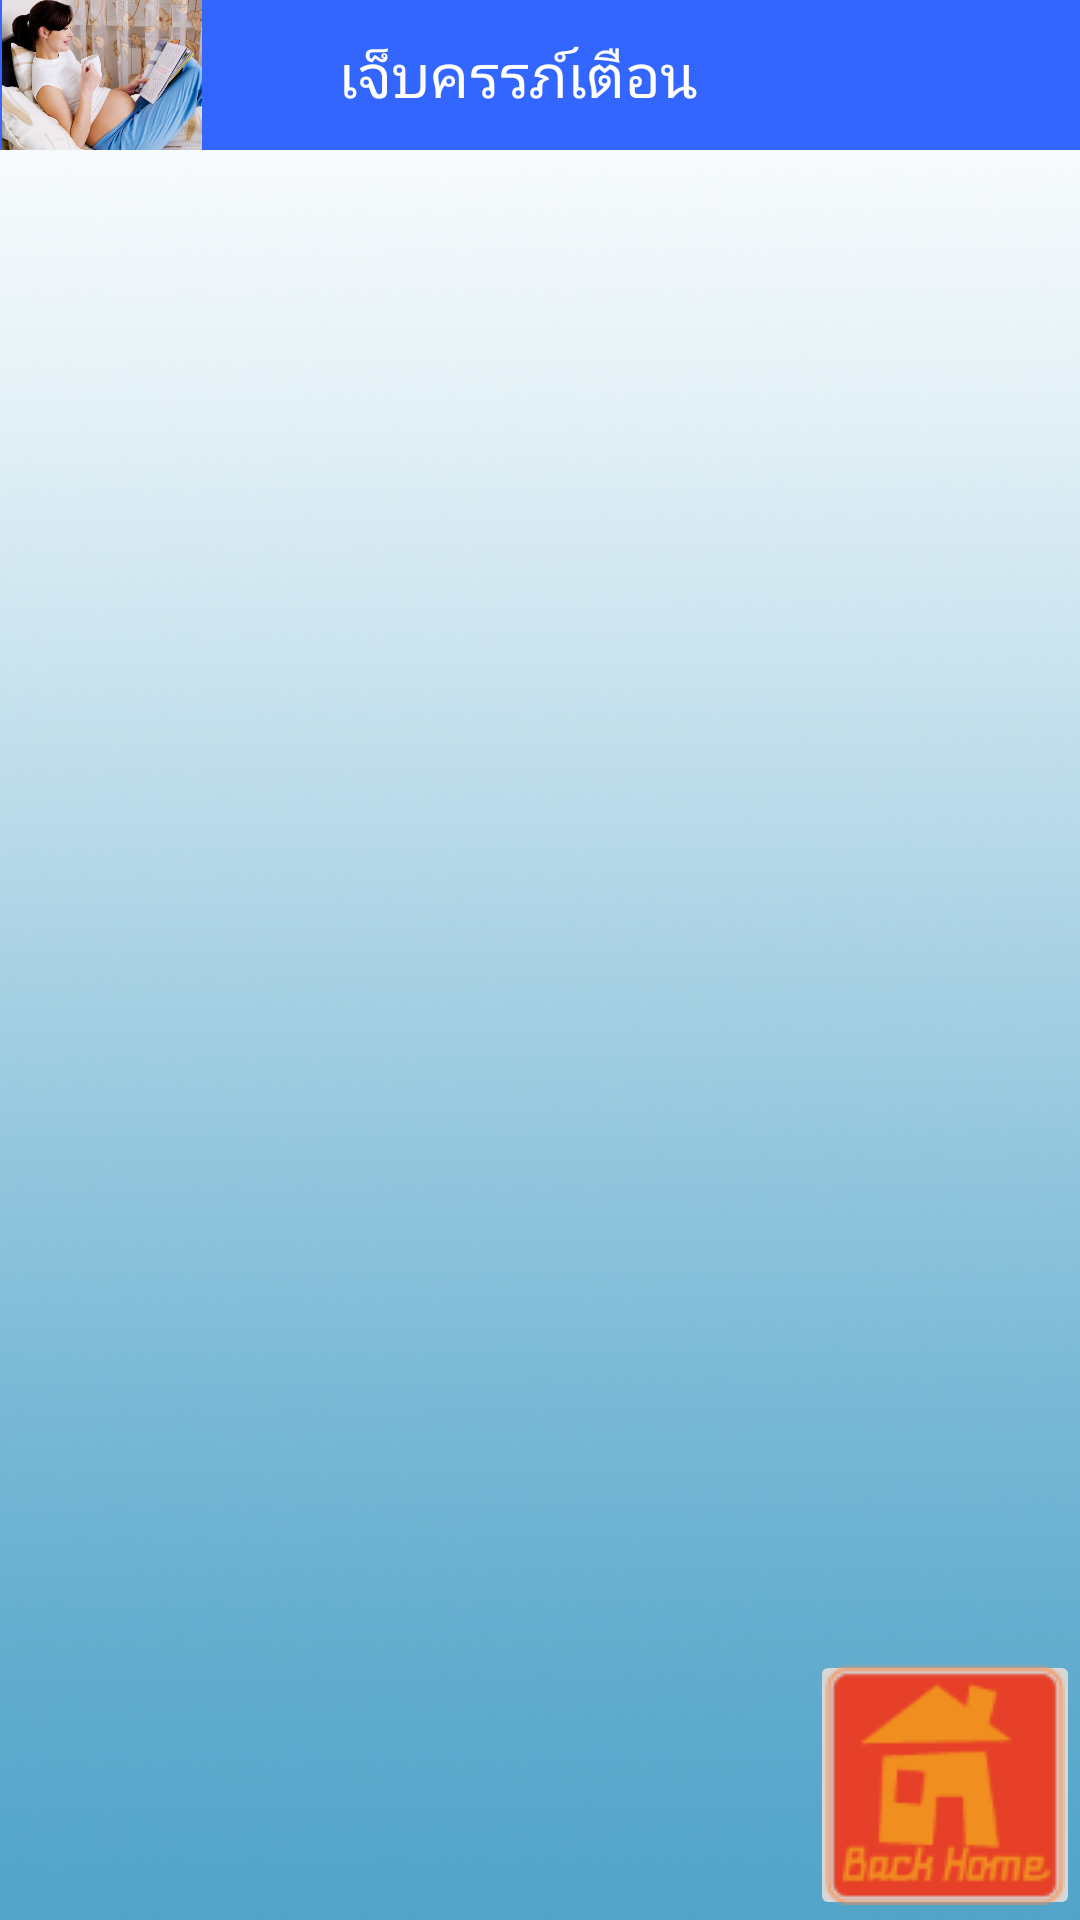

Named icons in this screenshot (1080 x 1920) and their centers, point (x, y):
mom: point (102, 75)
